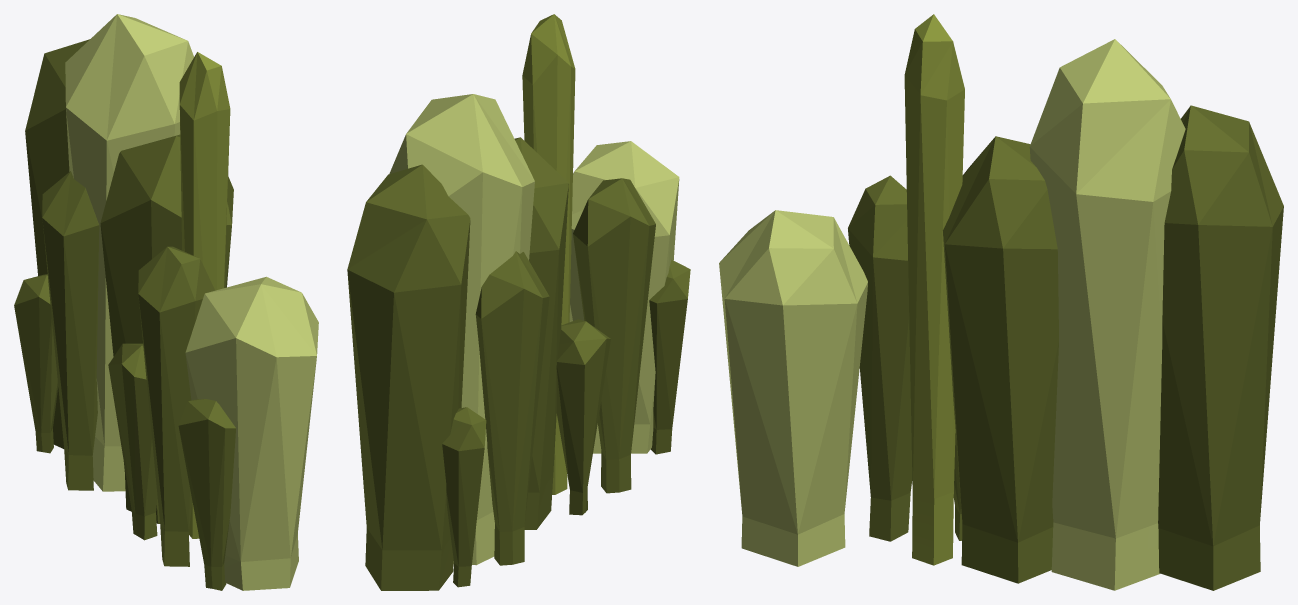
The model's file is ea_swamp_grass_01c_pre__1__lev1.glb.
3 renders of one model, left to right at view 1: azimuth 30°, elevation 25°; view 2: azimuth 150°, elevation 25°; view 3: azimuth 270°, elevation 25°, orthographic. The views are drawn at different scales.
Visible parts, largest first — view 1: ea_swamp_grass_01c_pre__1__lev1; view 2: ea_swamp_grass_01c_pre__1__lev1; view 3: ea_swamp_grass_01c_pre__1__lev1.
Boxes of the visible parts, x1,y1,x2,y2 form: ea_swamp_grass_01c_pre__1__lev1: (14, 14, 318, 590); ea_swamp_grass_01c_pre__1__lev1: (347, 14, 690, 590); ea_swamp_grass_01c_pre__1__lev1: (719, 14, 1283, 590).
Bounding box in the file's own units: 0.3088 × 0.9121 × 0.8598.
Materials: 1 (1 with a texture image).
